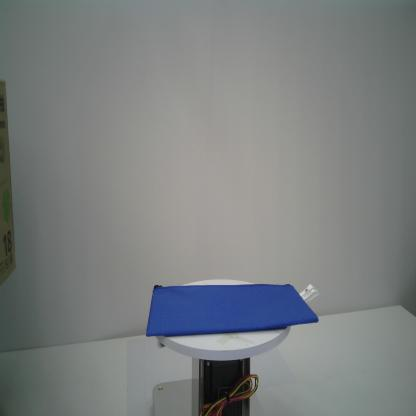Stationery: (145, 284, 320, 338)
